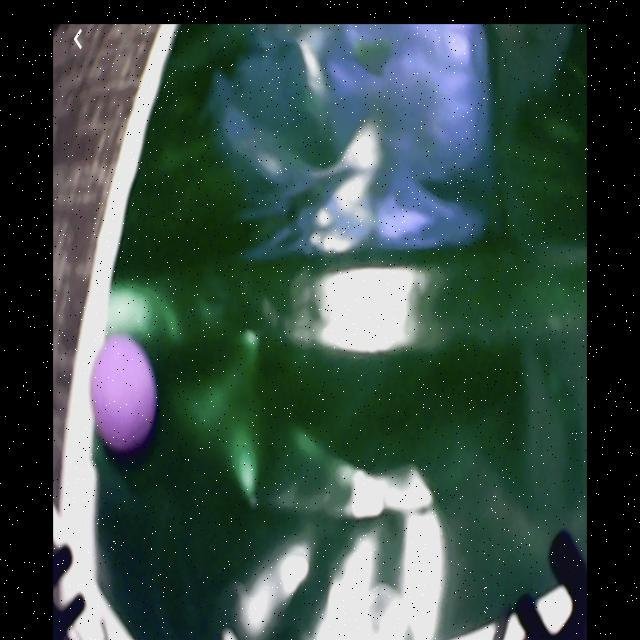ball: (88, 335, 158, 450)
